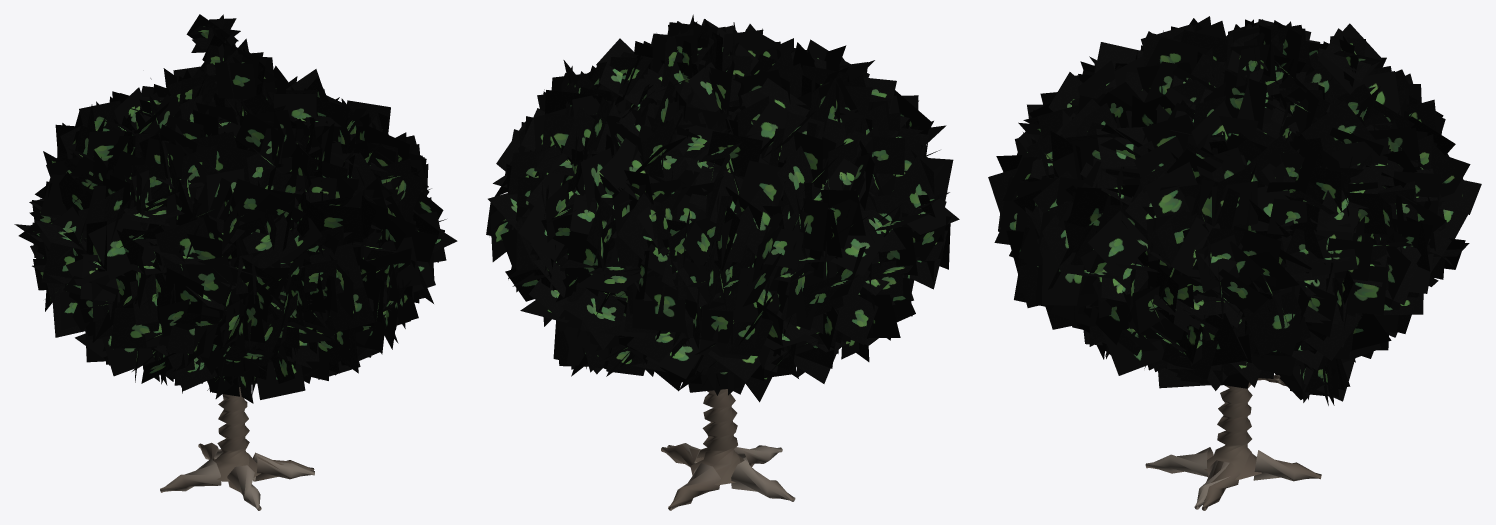
File: SM_Tree_Broadleaf_03.fbx
3 renders of one model, left to right at view 1: azimuth 30°, elevation 25°; view 2: azimuth 150°, elevation 25°; view 3: azimuth 270°, elevation 25°, orthographic. The views are drawn at different scales.
Visible parts, largest first — view 1: SM_Tree_Broadleaf_03; view 2: SM_Tree_Broadleaf_03; view 3: SM_Tree_Broadleaf_03.
Boxes of the visible parts, <box> form: SM_Tree_Broadleaf_03: <box>14,14,457,510</box>; SM_Tree_Broadleaf_03: <box>486,14,959,510</box>; SM_Tree_Broadleaf_03: <box>988,16,1481,510</box>.
Size of the model in its own units: 9.92 by 10.78 by 10.29.
